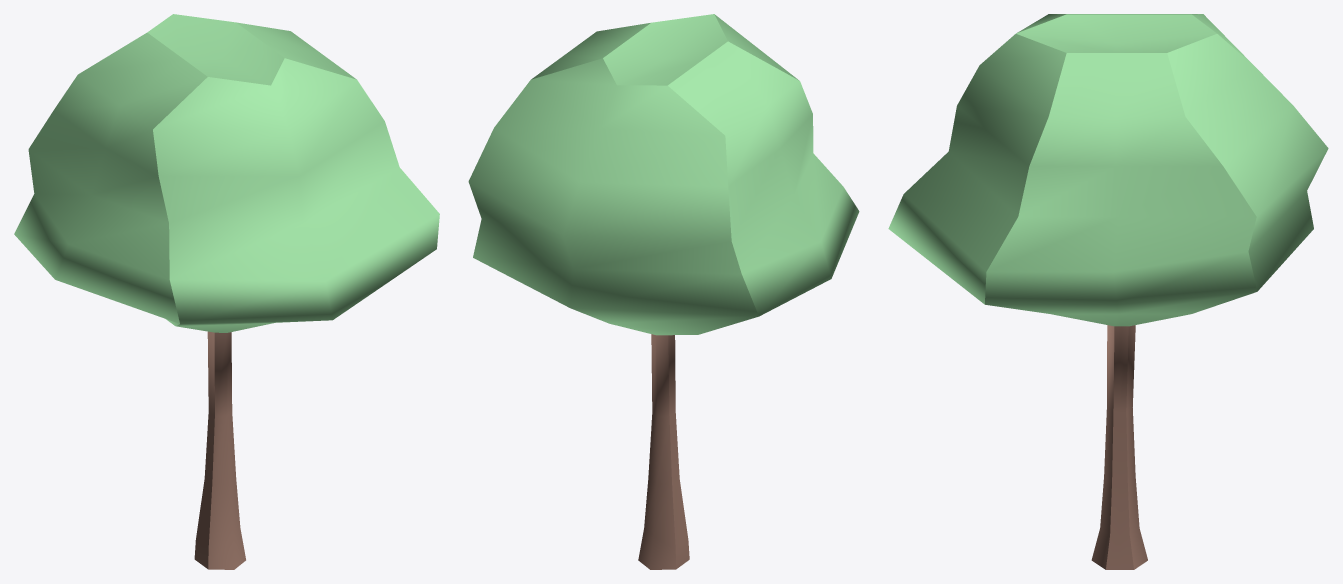
File: tree1.fbx
3 renders of one model, left to right at view 1: azimuth 30°, elevation 25°; view 2: azimuth 150°, elevation 25°; view 3: azimuth 270°, elevation 25°, orthographic. The views are drawn at different scales.
Visible parts, largest first — view 1: tree1; view 2: tree1; view 3: tree1.
Part boxes in pixels (x1,y1,x2,y2): tree1: (14,14,439,569); tree1: (468,14,859,569); tree1: (888,14,1328,569).
Bounding box in the file's own units: 19.07 × 28.98 × 21.95.
